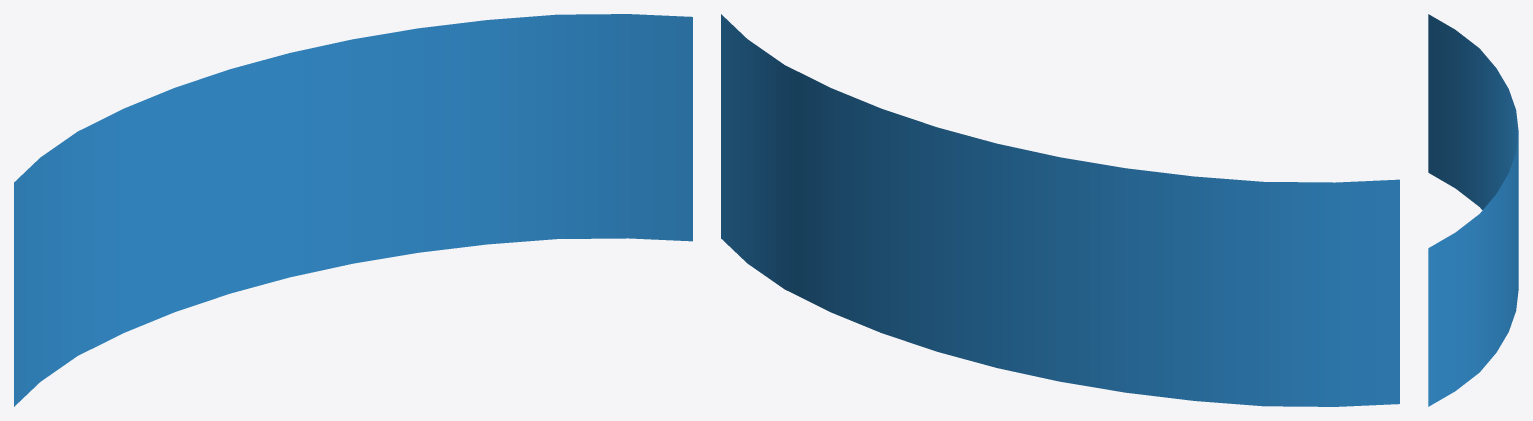
Rendered from daping2-1.FBX.
3 renders of one model, left to right at view 1: azimuth 30°, elevation 25°; view 2: azimuth 150°, elevation 25°; view 3: azimuth 270°, elevation 25°, orthographic. The views are drawn at different scales.
Visible parts, largest first — view 1: daping1-1; view 2: daping1-1; view 3: daping1-1.
Part boxes in pixels (x1,y1,x2,y2): daping1-1: [14, 14, 692, 406]; daping1-1: [721, 14, 1399, 406]; daping1-1: [1428, 14, 1518, 406].
Bounding box in the file's own units: 1.88 × 0.5953 × 0.3067.
